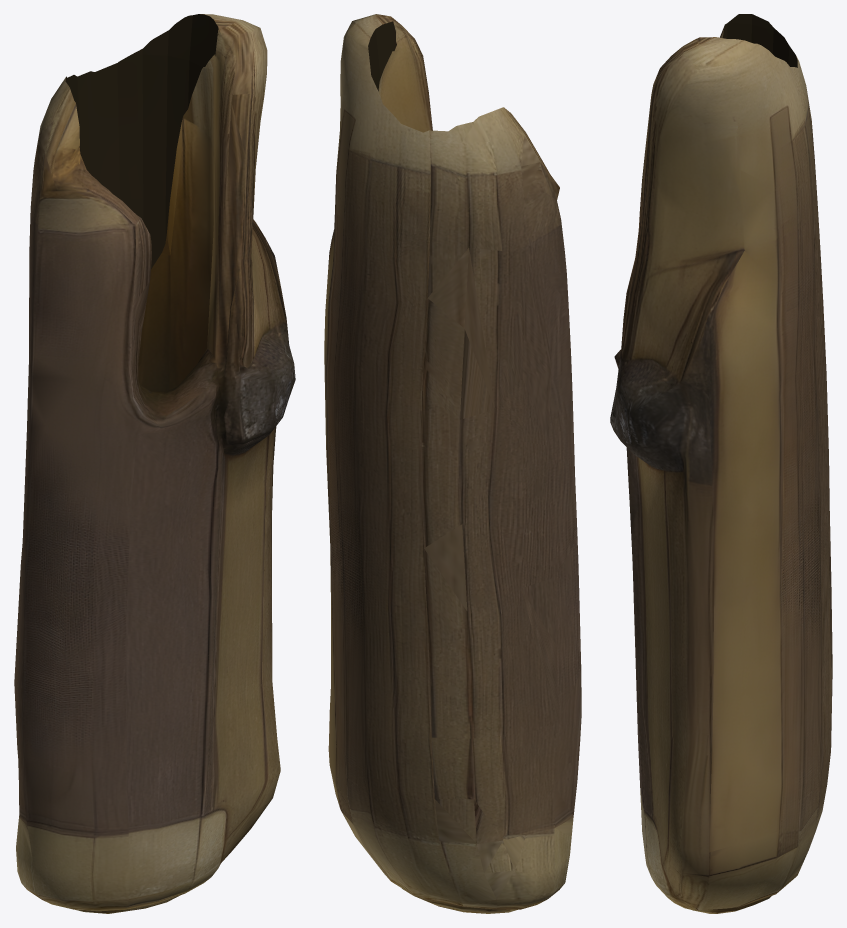
The model's file is PenSleeve-game-v1.glb.
3 renders of one model, left to right at view 1: azimuth 30°, elevation 25°; view 2: azimuth 150°, elevation 25°; view 3: azimuth 270°, elevation 25°, orthographic. The views are drawn at different scales.
Visible parts, largest first — view 1: PenSleeve; view 2: PenSleeve; view 3: PenSleeve.
Part boxes in pixels (bbox=[...]): PenSleeve: bbox=[14, 14, 295, 913]; PenSleeve: bbox=[324, 14, 581, 913]; PenSleeve: bbox=[610, 14, 832, 913].
Bounding box in the file's own units: 0.036 × 0.116 × 0.026.
Materials: 1 (1 with a texture image).
